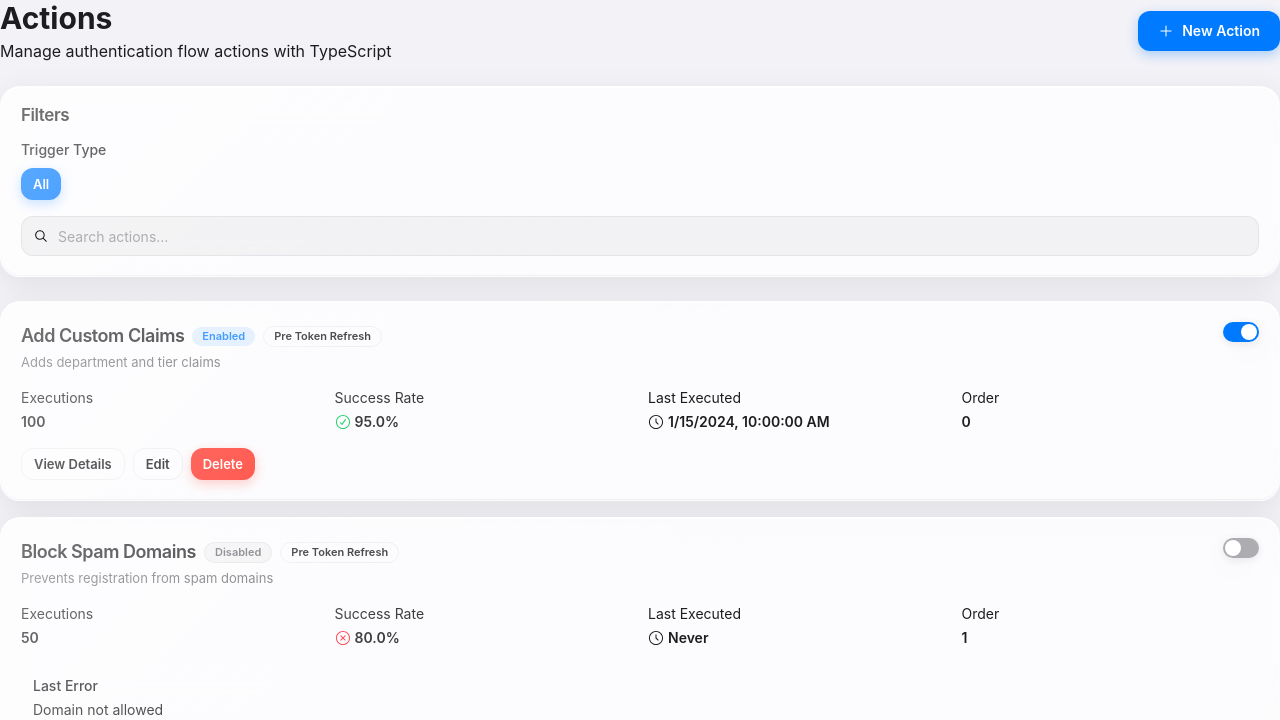
it: Actions List Page › filters actions by search query
The image size is (1280, 720).
Expected: the link "Add Custom Claims" is shown, [21,325,184,346]
Step 1. Type "spam" into the search field with placeholder "Search actions..." → (640, 236), box [21,216,1259,256]
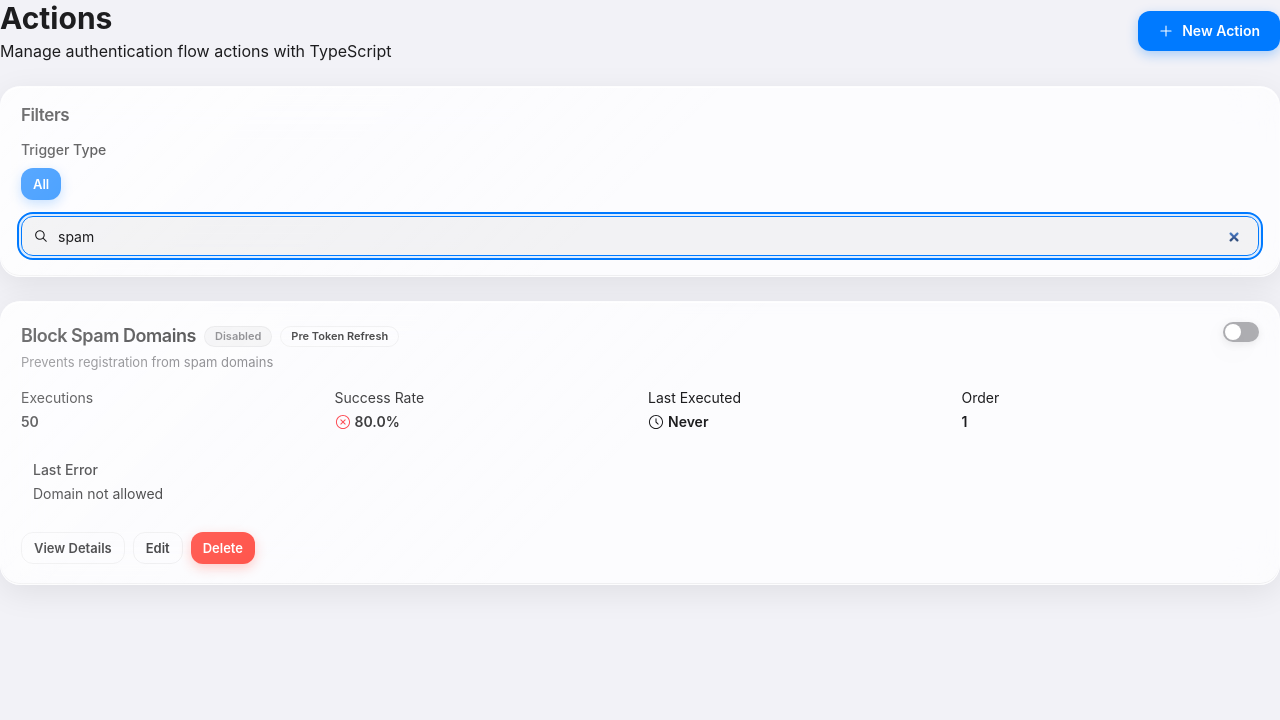
Expected: the link "Block Spam Domains" is shown, [21,325,196,346]
Now the link "Add Custom Claims" is gone
